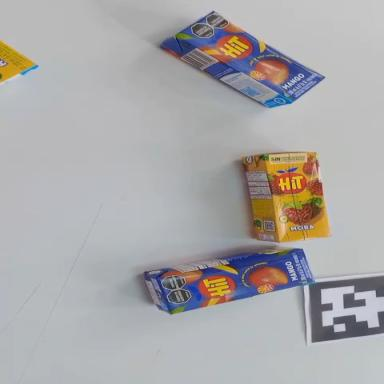HIT-MANGO: (159, 0, 325, 127), (143, 241, 315, 317)
HIT-MORA: (241, 146, 331, 247), (0, 40, 38, 84)
cara_F: (176, 0, 325, 112), (160, 247, 317, 315), (263, 145, 331, 245), (0, 40, 36, 83)
